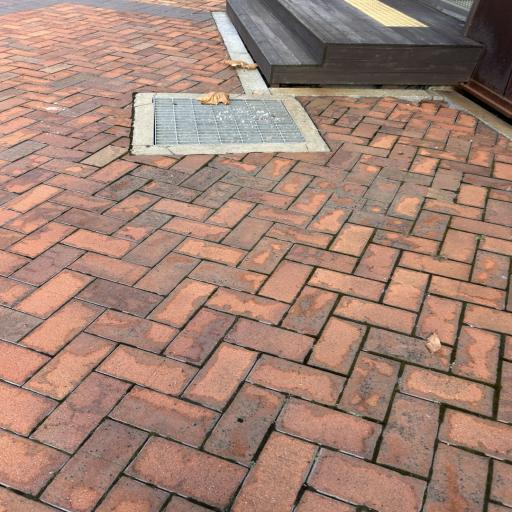drain: (154, 97, 303, 145)
